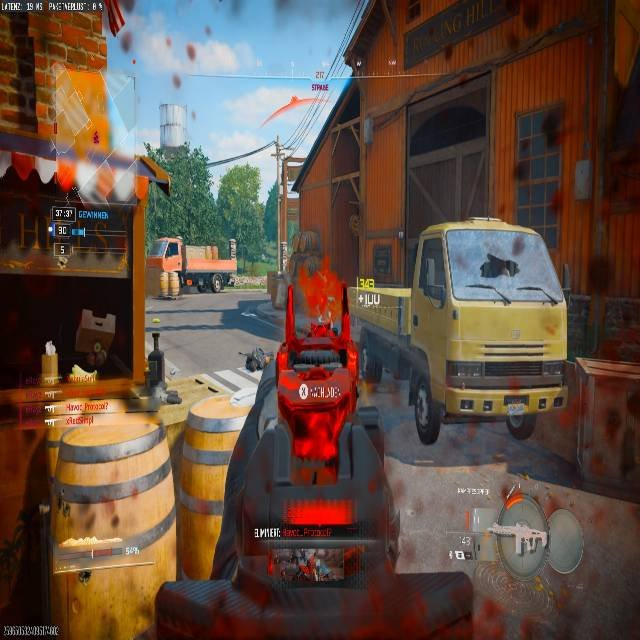head: (255, 346, 263, 354)
